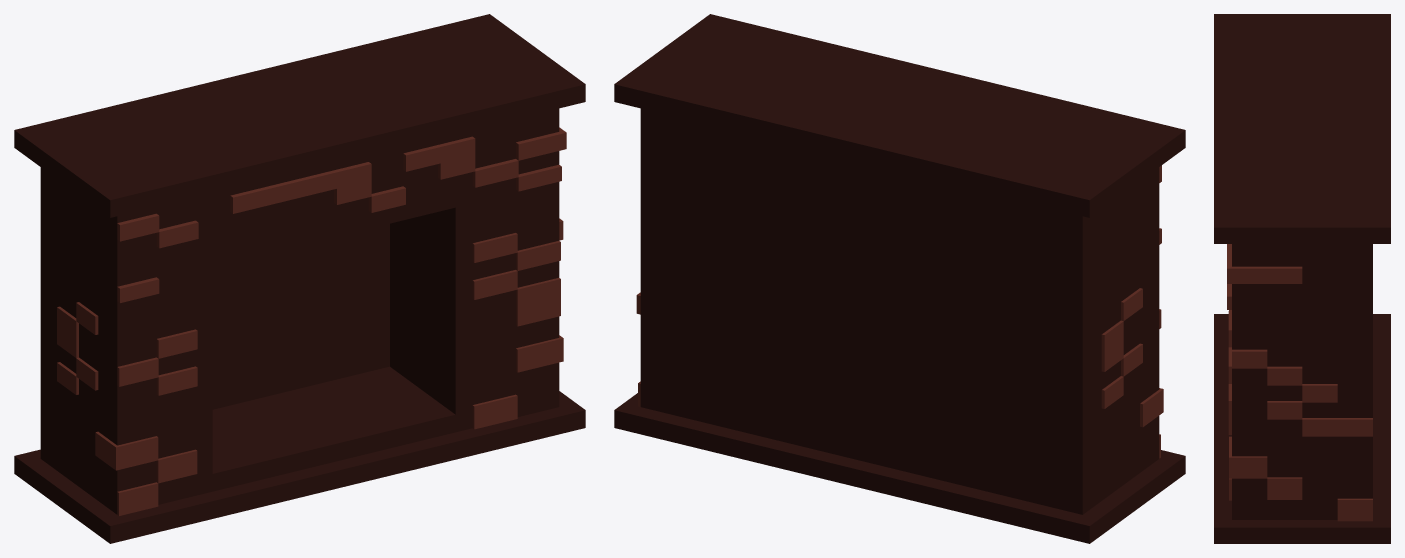
File: Firerplace.fbx
3 renders of one model, left to right at view 1: azimuth 30°, elevation 25°; view 2: azimuth 150°, elevation 25°; view 3: azimuth 270°, elevation 25°, orthographic. The views are drawn at different scales.
Parts seen in each view (by area): view 1: Box001; view 2: Box001; view 3: Box001.
Boxes of the visible parts, x1,y1,x2,y2 form: Box001: (14,14,585,543); Box001: (614,14,1185,543); Box001: (1214,14,1390,543).
Bounding box in the file's own units: 42.37 × 14.81 × 29.27.
